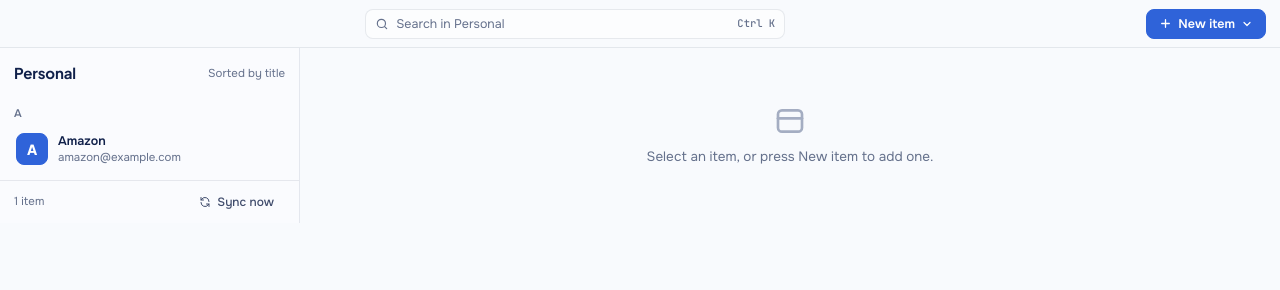
VaultScreen list › shows sync failures
The image size is (1280, 290).
Expected: the text "Amazon" is shown, x1=58 y1=133 x2=106 y2=149
What coordinates should you click on to do the following:
click the button "Sync now"
I would click on:
 (237, 202)
Its box is x1=188 y1=189 x2=285 y2=215.
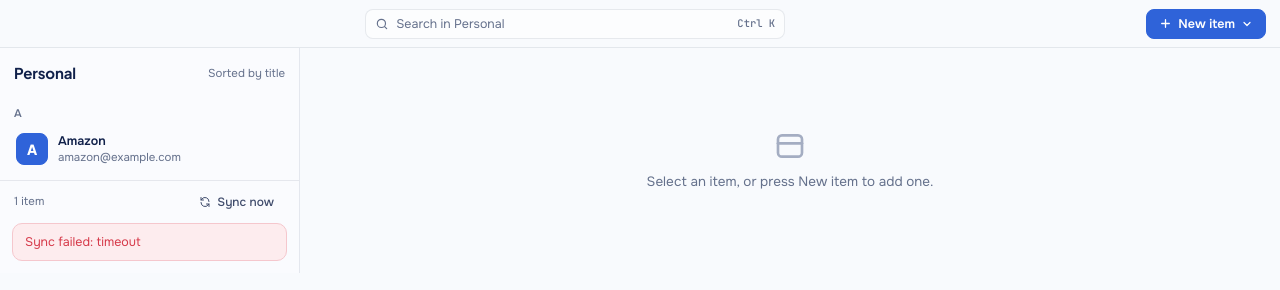
Expected: the text "Sync failed: timeout" is shown, x1=12 y1=223 x2=287 y2=261
